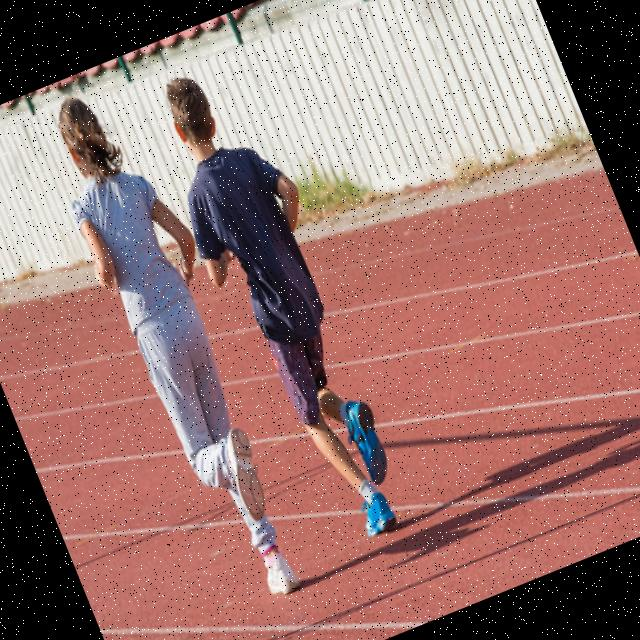Person: (29, 74, 330, 616), (136, 50, 429, 557)
